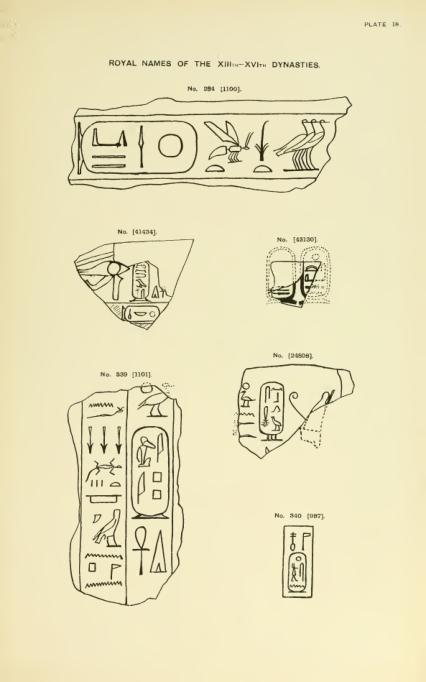circle: (75, 119, 198, 174), (129, 421, 171, 524), (261, 242, 298, 306), (299, 246, 337, 305), (257, 378, 286, 443), (287, 552, 309, 594), (118, 305, 160, 324)
